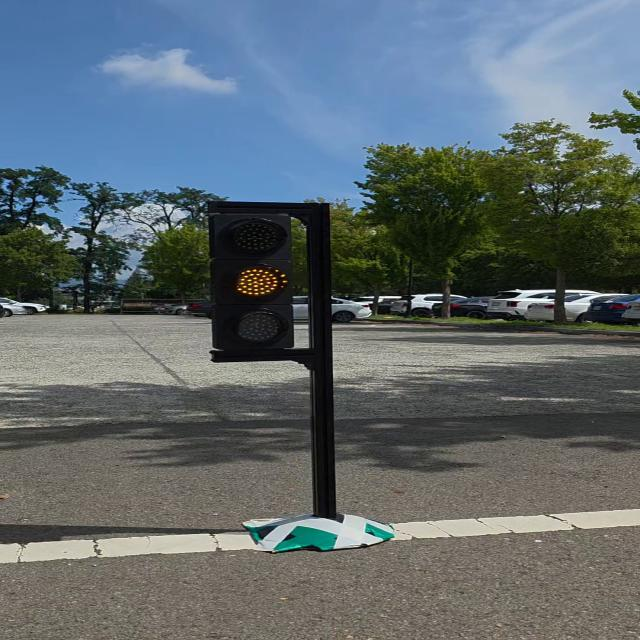yellow: (196, 208, 299, 356)
